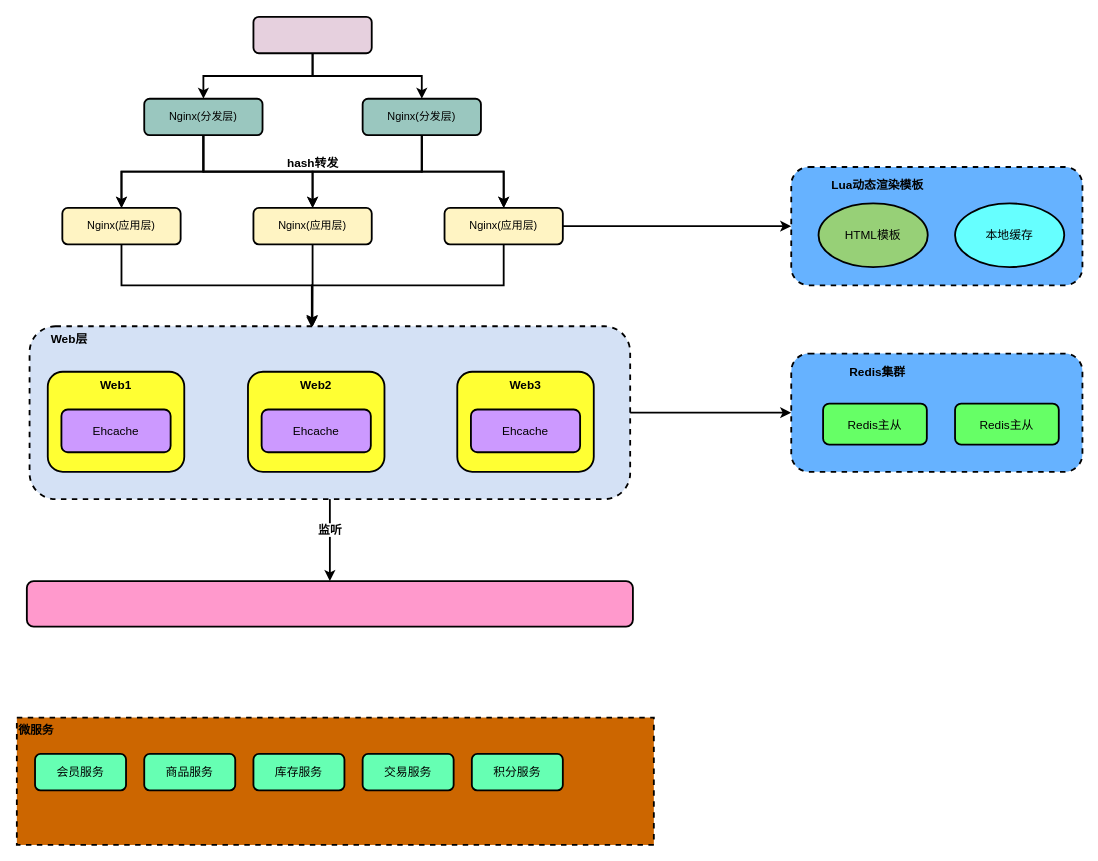
Some shapes in this 1098 by 861 pixel diagram are drawn without their labels. Each missing label, with the centre of its shape:
"LVS+Keepalived" goes at (312,34).
"MQ" goes at (329,603).
